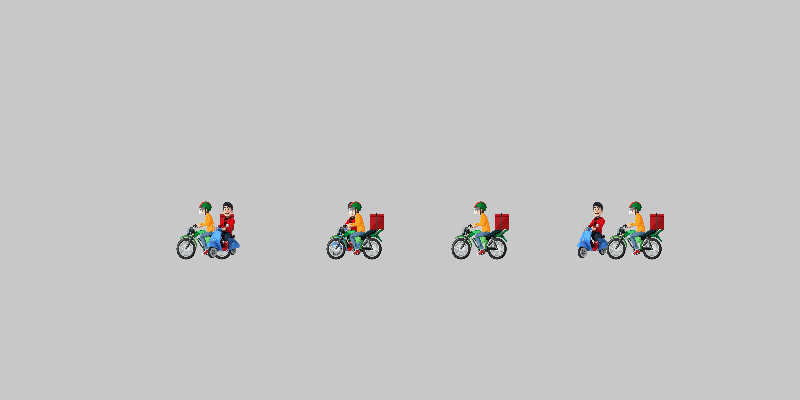helmet: (175, 200, 235, 260), (325, 200, 385, 260), (450, 200, 510, 260), (605, 200, 665, 260)
no_helmet: (195, 200, 255, 260), (320, 200, 380, 260), (565, 200, 625, 260)
